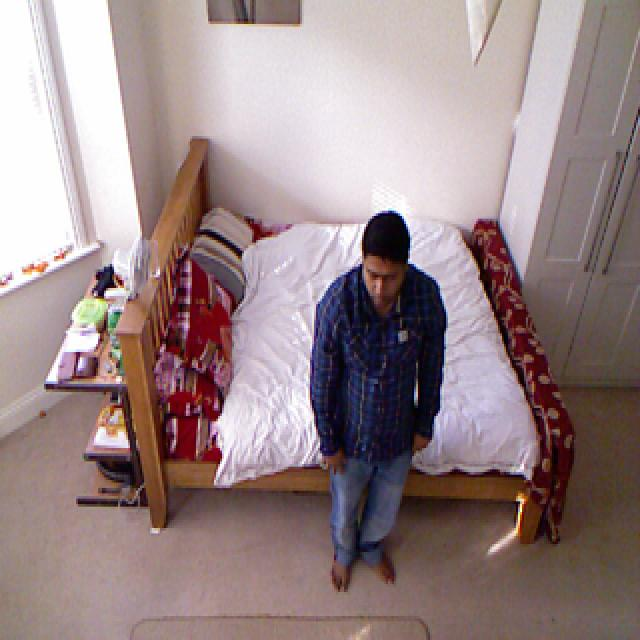standing: (310, 209, 447, 613)
